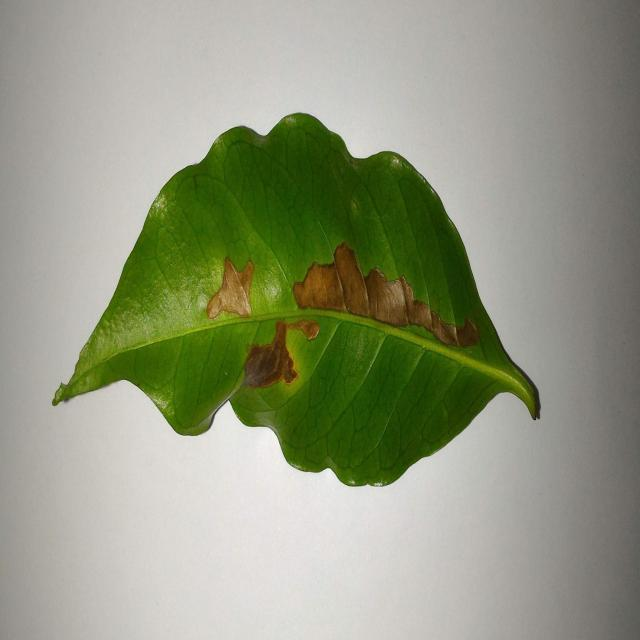miner: (293, 242, 479, 346), (243, 319, 318, 388), (207, 258, 254, 320)
